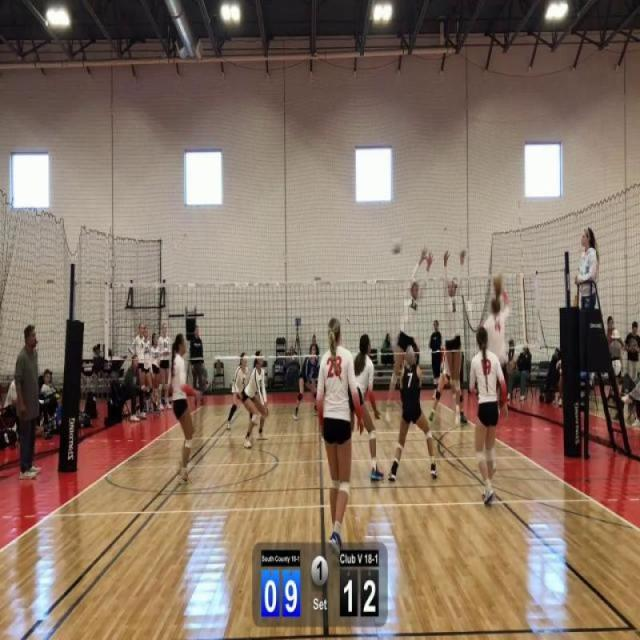volleyball: (389, 235, 404, 258)
